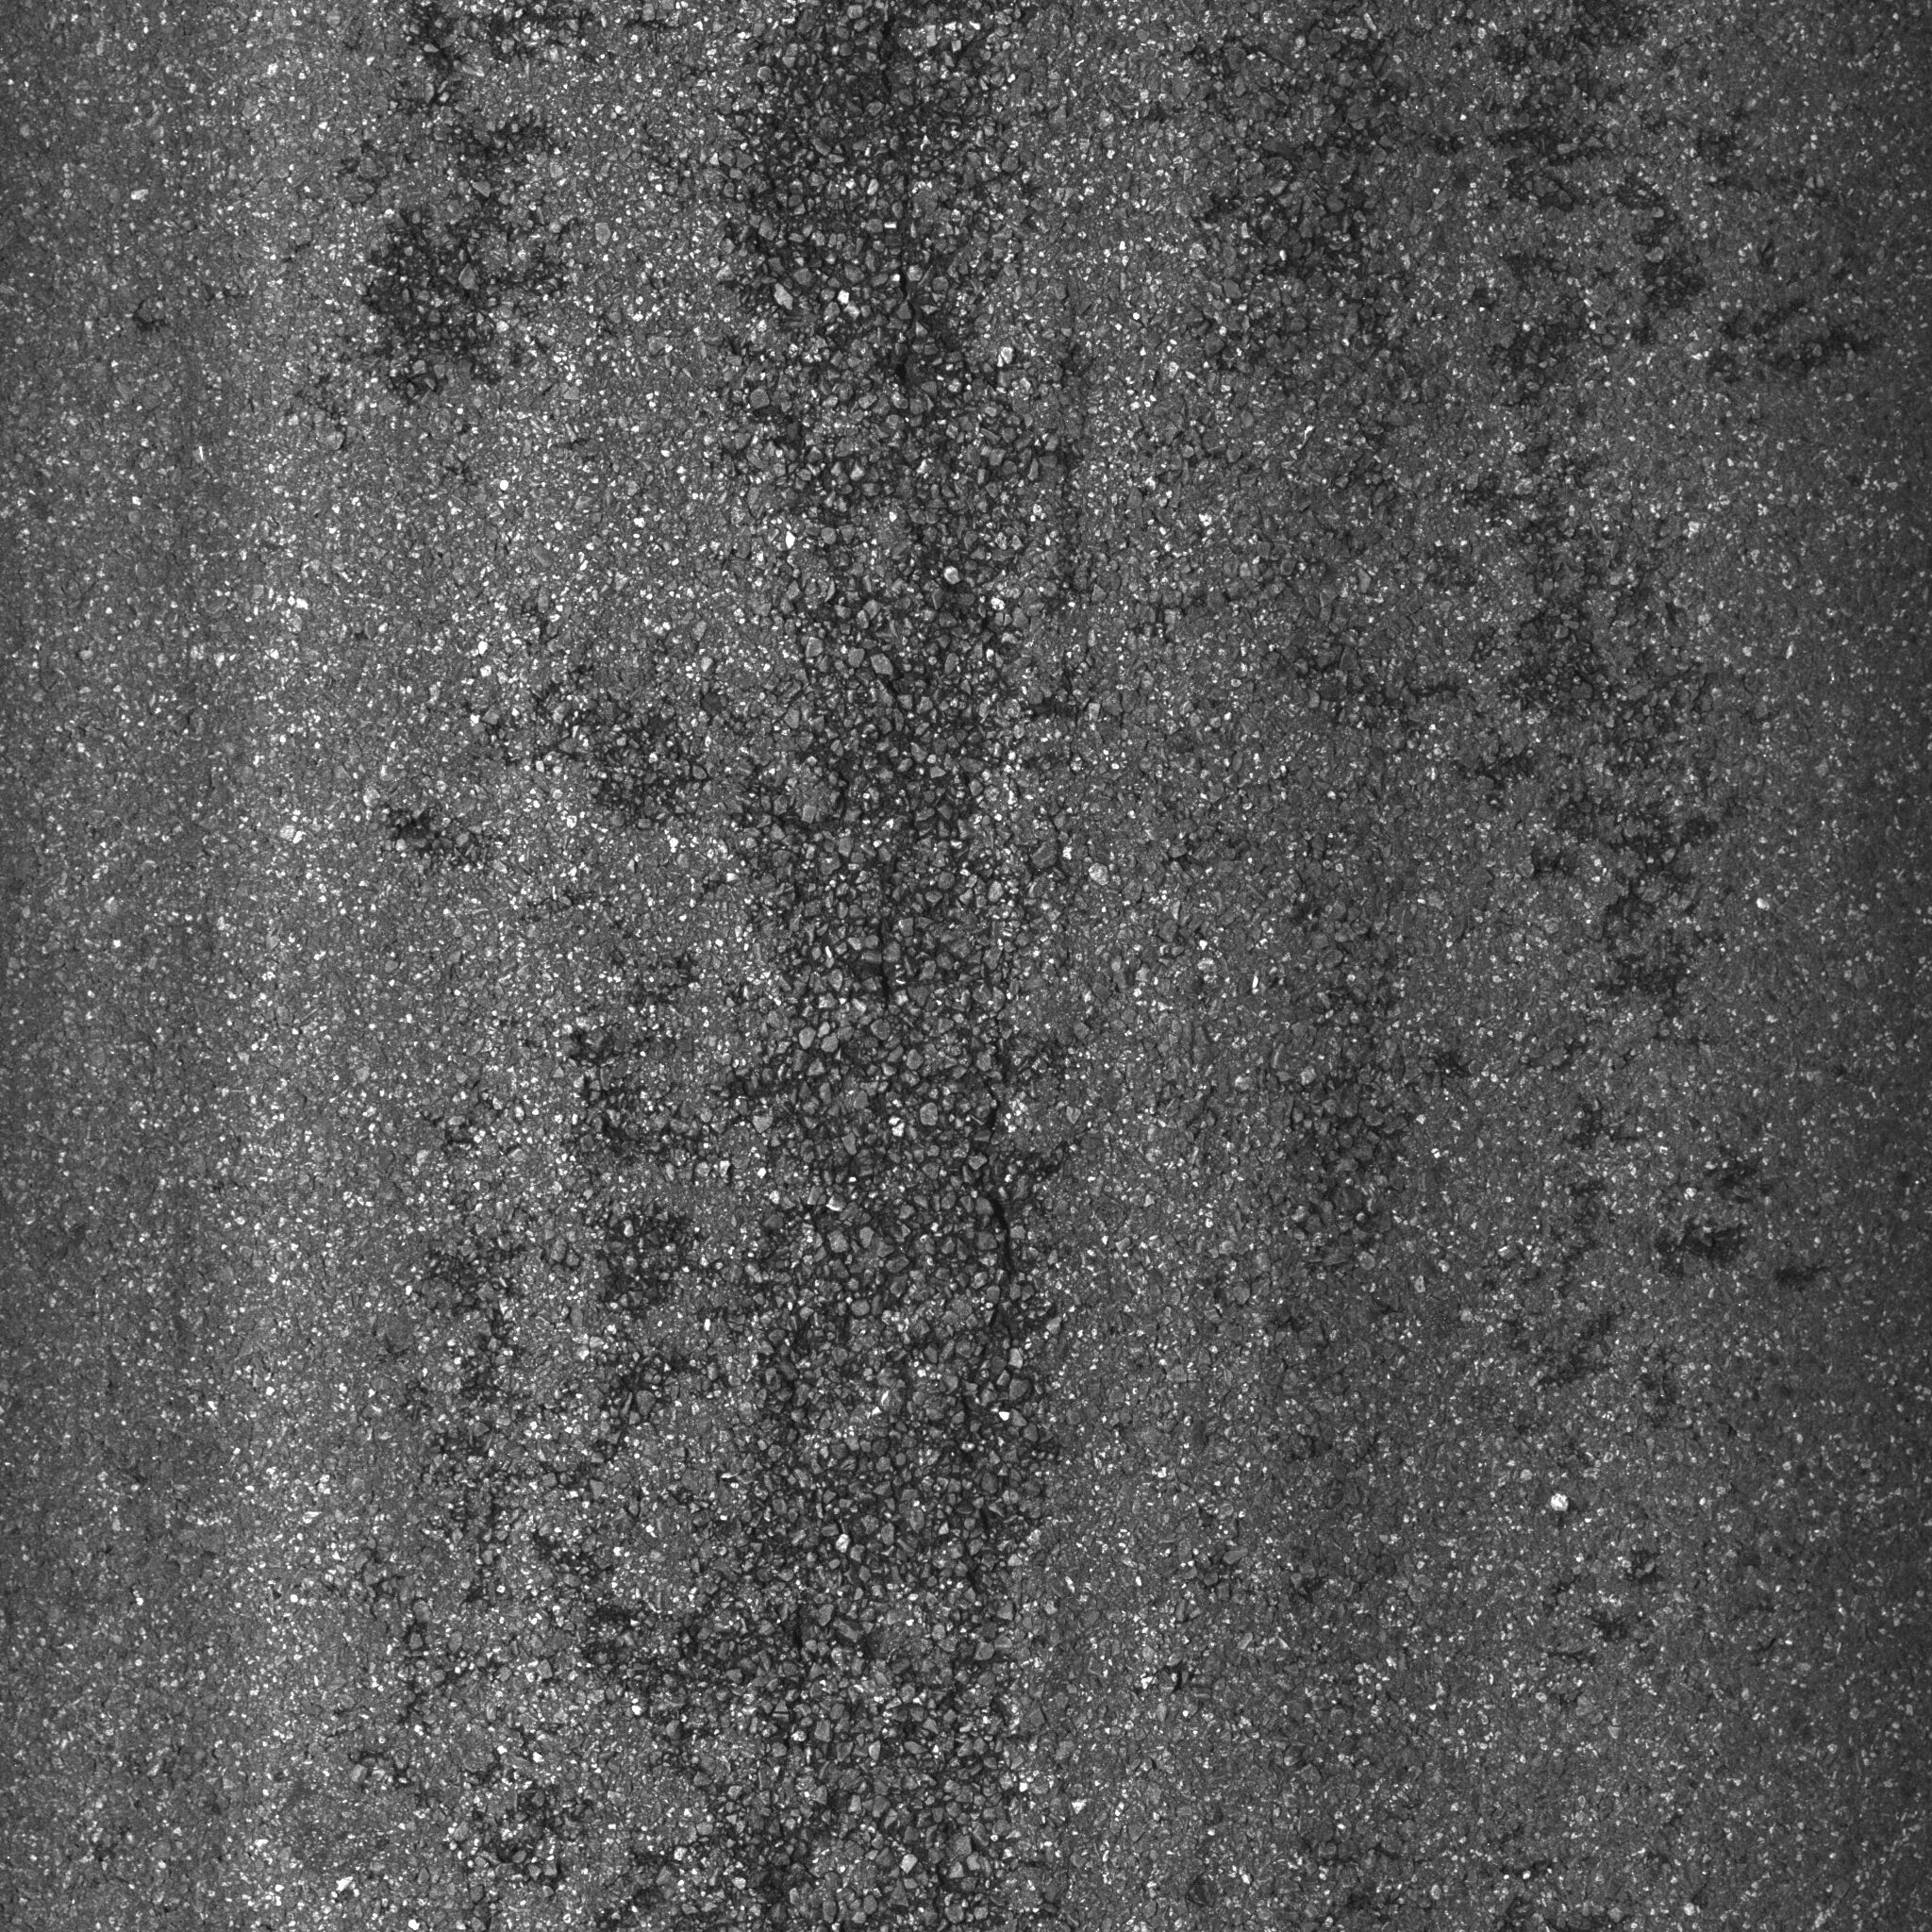longitudinal: (916, 950, 1049, 1913)
